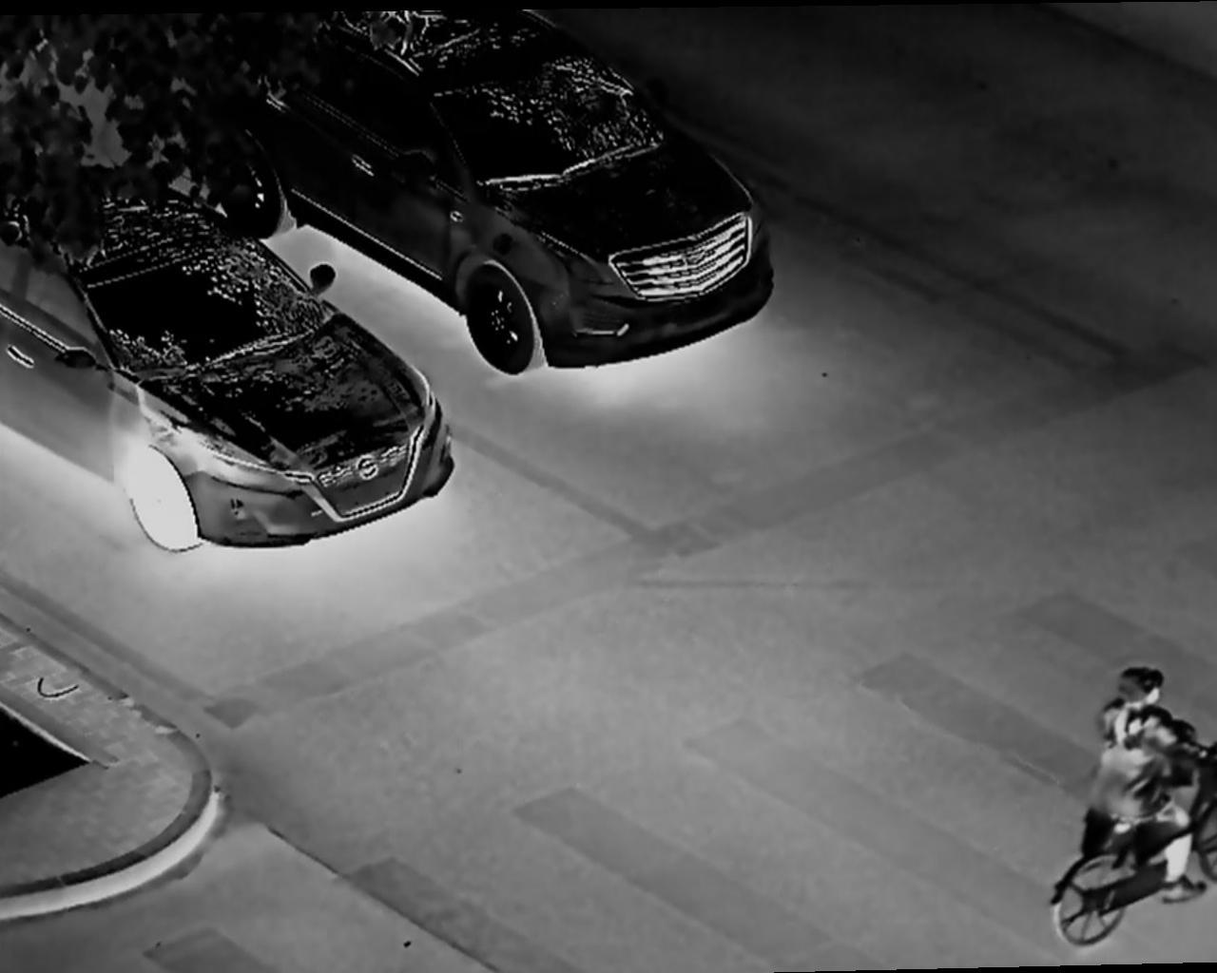person: (1080, 660, 1217, 883)
